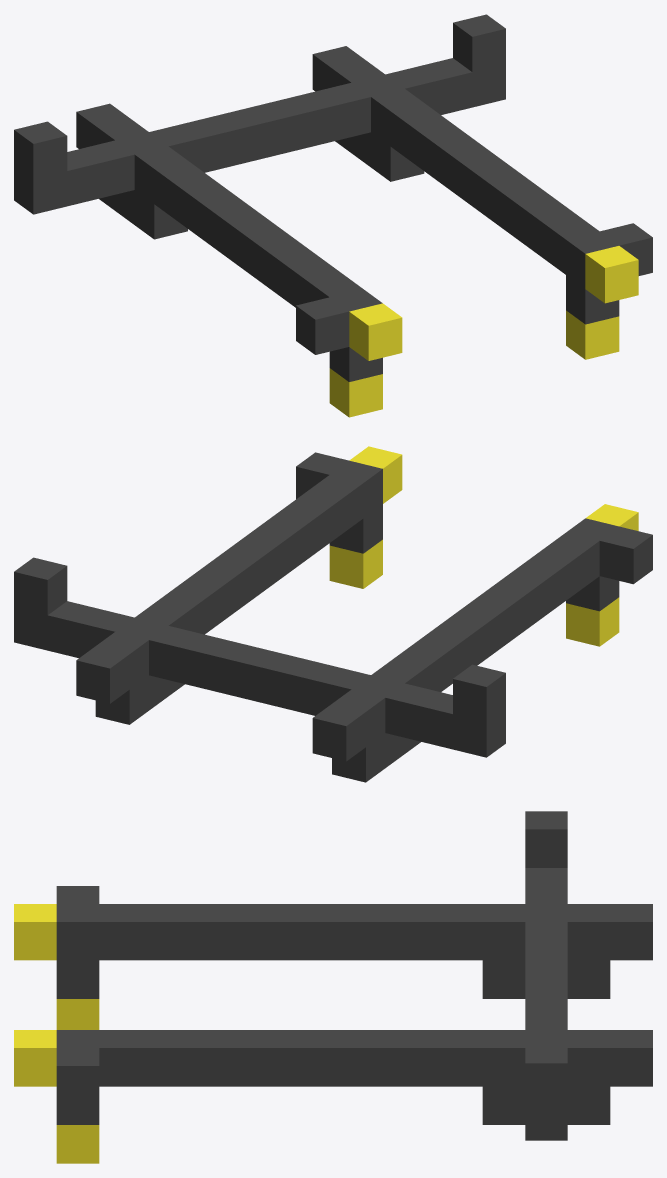
Rendered from CanonXother-19-CamoJet_MachineGuns.obj.
3 renders of one model, top to bottom at view 1: azimuth 30°, elevation 25°; view 2: azimuth 150°, elevation 25°; view 3: azimuth 270°, elevation 25°, orthographic. The views are drawn at different scales.
Parts seen in each view (by area): view 1: CamoJet_MachineGuns; view 2: CamoJet_MachineGuns; view 3: CamoJet_MachineGuns.
Part boxes in pixels (box(x1,y1,x2,y2)): CamoJet_MachineGuns: box(14, 14, 652, 417); CamoJet_MachineGuns: box(14, 446, 652, 782); CamoJet_MachineGuns: box(14, 811, 652, 1163).
Size of the model in its own units: 1.4 by 0.4 by 1.5.
